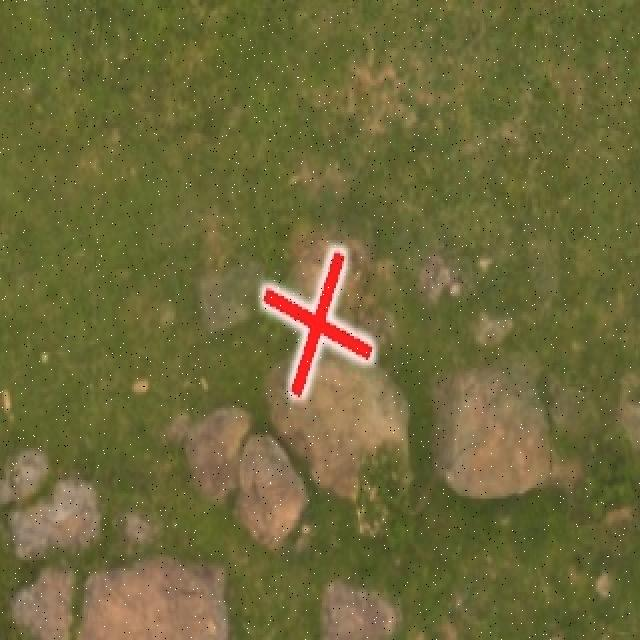x_marker: (263, 250, 371, 394)
